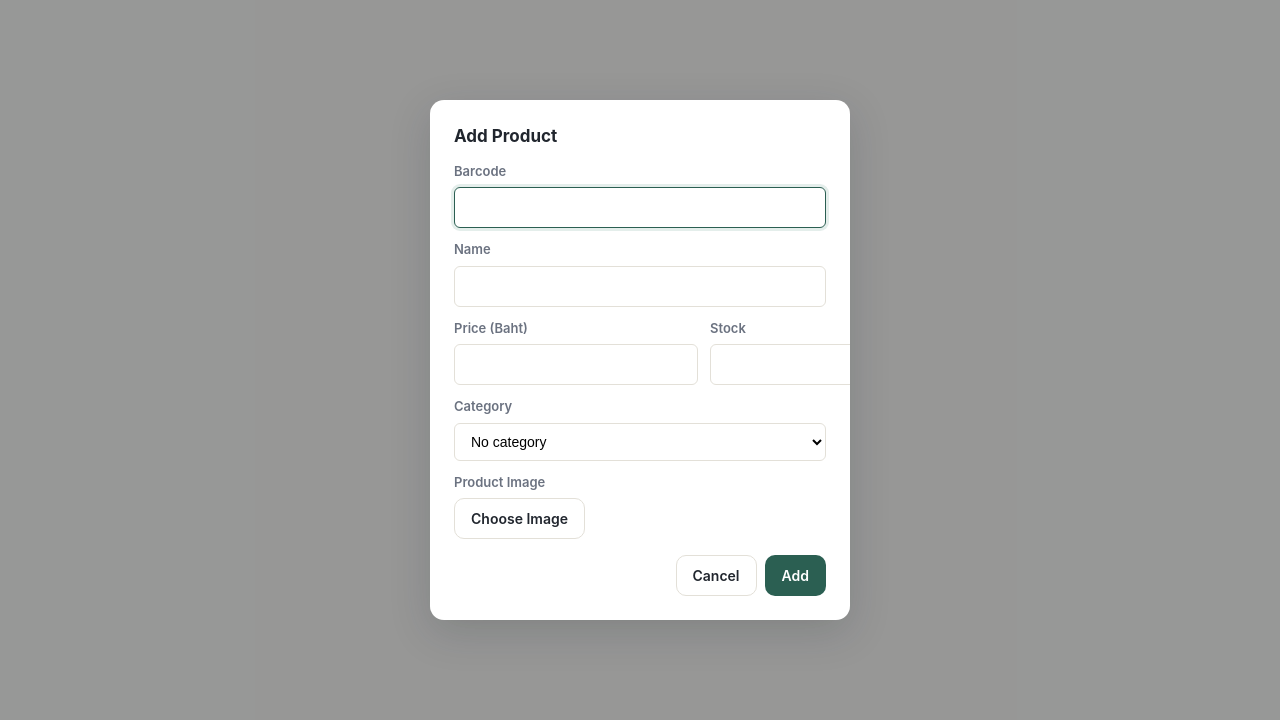
Scenario: ProductForm › shows a clean error message when picking an image fails, instead of failing silently
Click the button "Choose Image". click: (520, 518)
box: [454, 498, 585, 539]
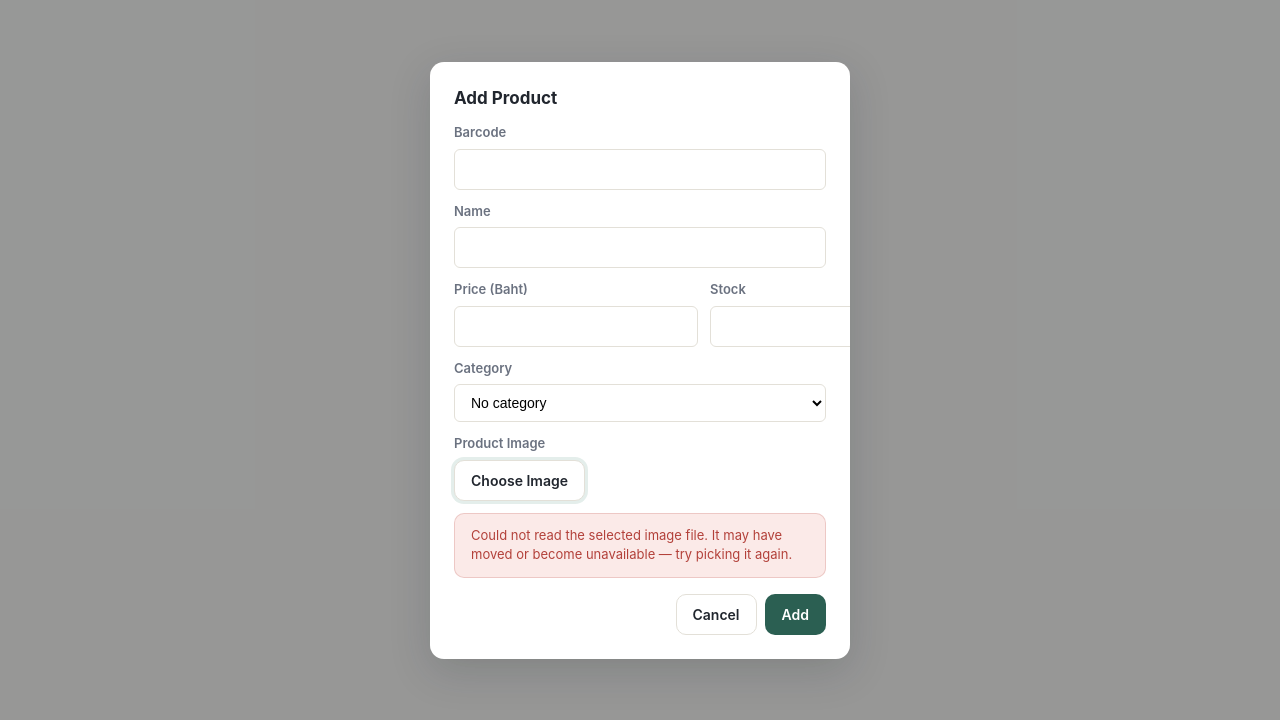
Check: the message shows "Could not read the selected image file. It may have moved or become unavailable — try picking it again.", box [471, 526, 792, 562]
